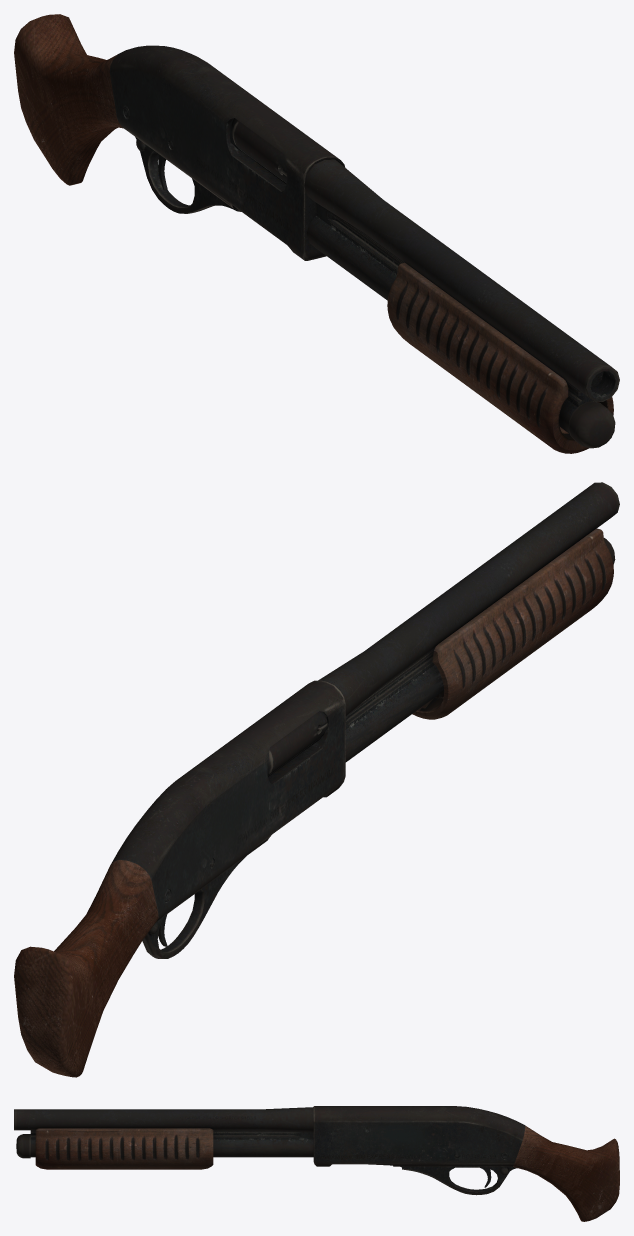
The model's file is sawed.glb.
The picture shows the model from 3 angles, top to bottom: view 1: azimuth 30°, elevation 25°; view 2: azimuth 150°, elevation 25°; view 3: azimuth 270°, elevation 25°; orthographic projection. The views are drawn at different scales.
Parts seen in each view (by area): view 1: sawed; view 2: sawed; view 3: sawed.
Boxes of the visible parts, bbox=[...] form: sawed: bbox=[14, 14, 619, 453]; sawed: bbox=[14, 482, 619, 1077]; sawed: bbox=[14, 1106, 619, 1221].
Size of the model in its own units: 1.71 by 5.15 by 25.1.
1 material, 1 textured.
